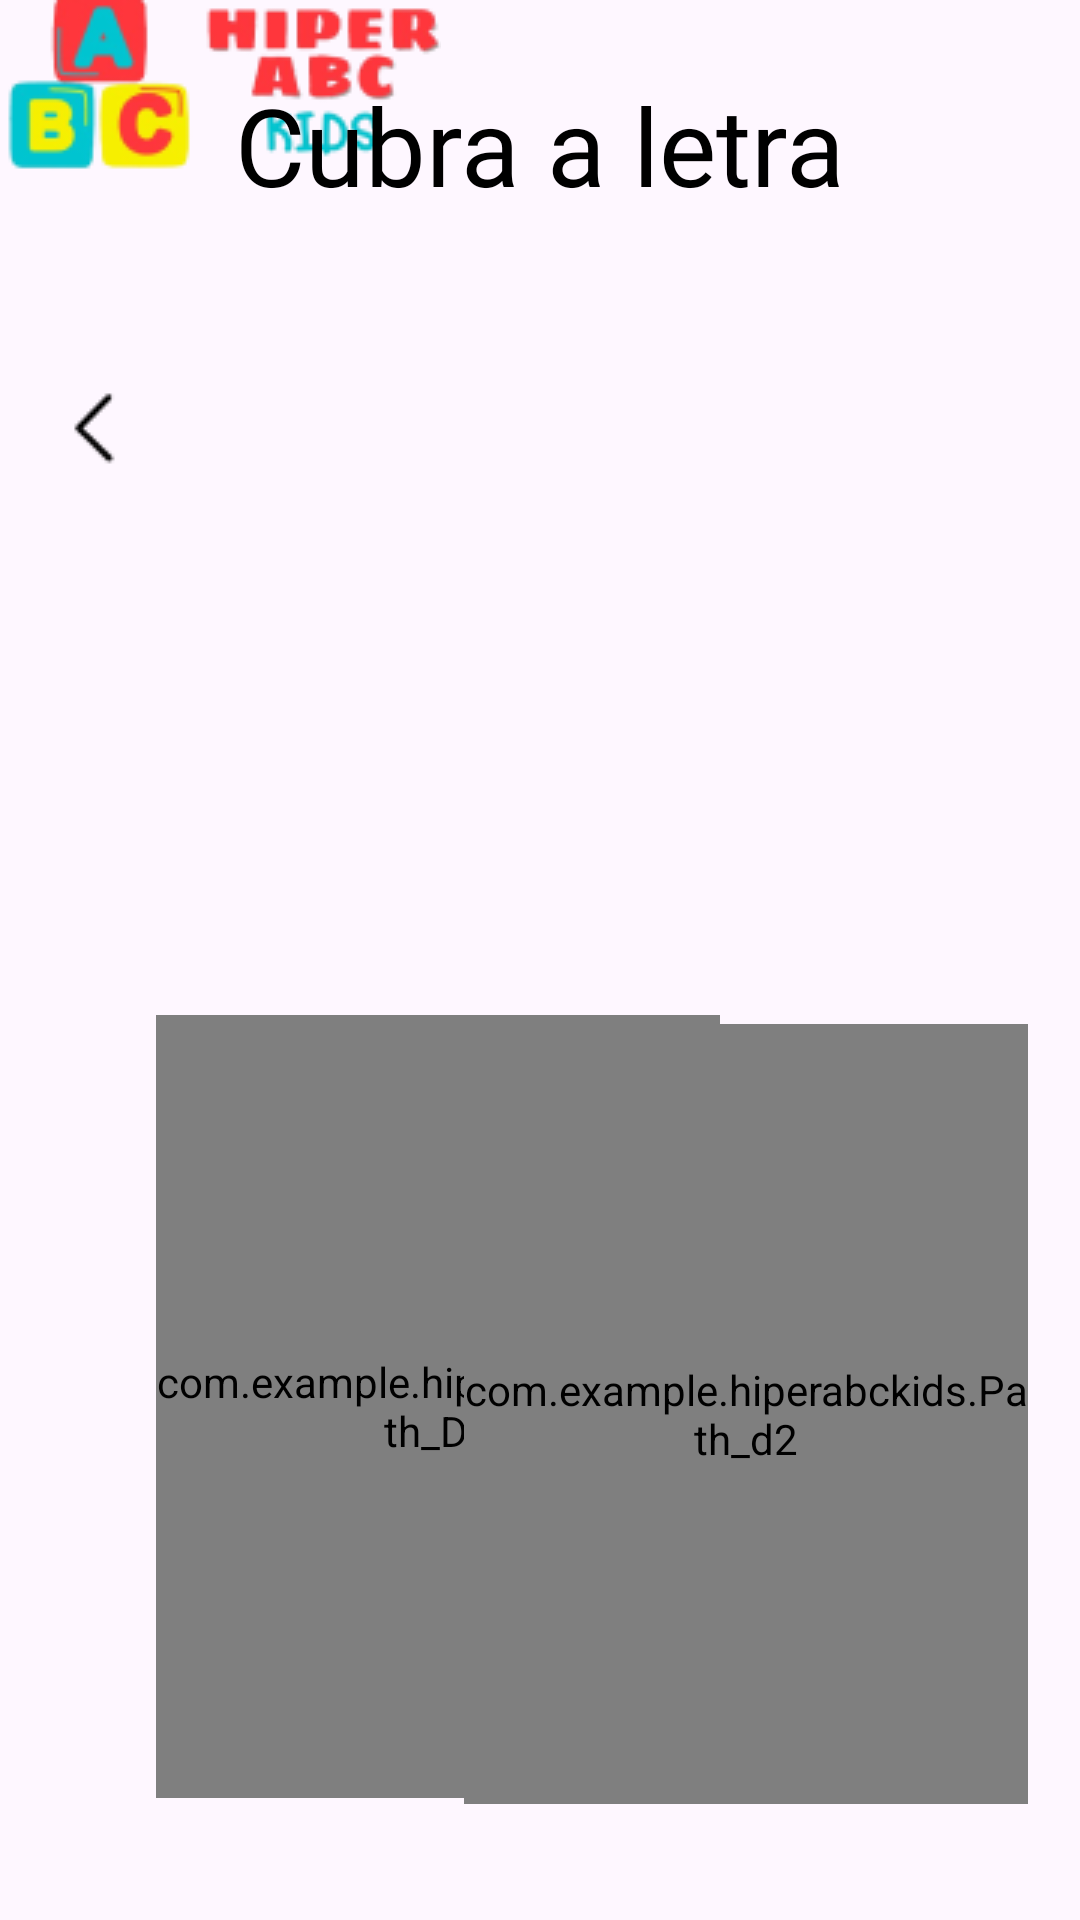

Where icons sit on this 1080×1920 app screen, as (x1, y1, x2, y2):
seta voltar: (74, 393, 115, 464)
